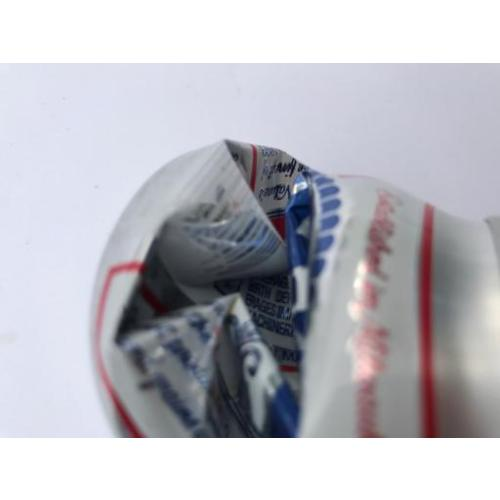metal: (97, 140, 500, 438)
